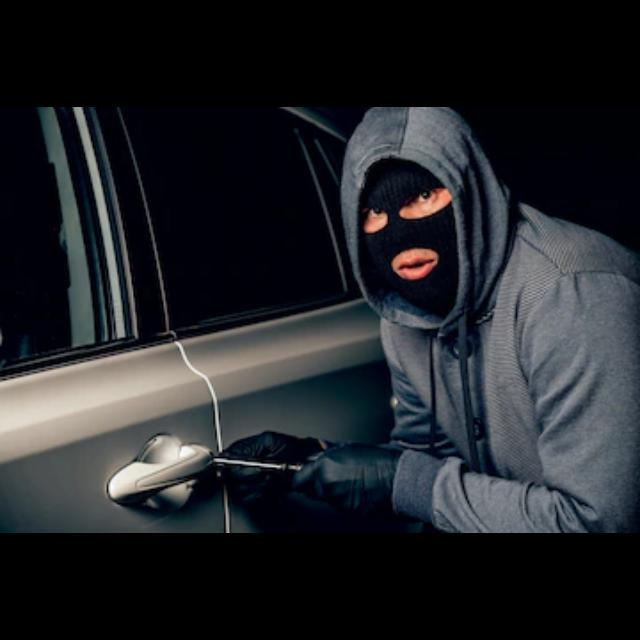criminal: (195, 105, 640, 534)
